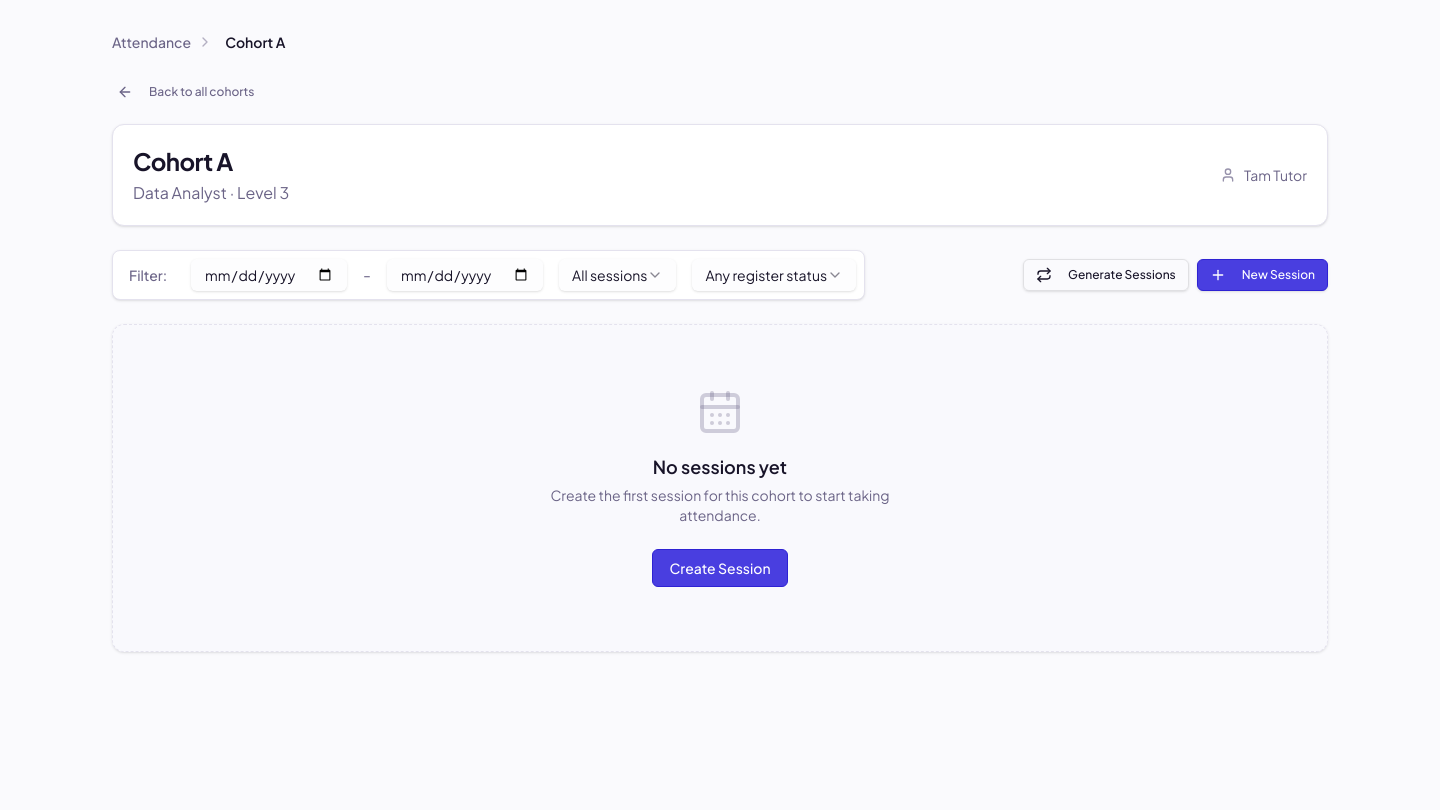
it: CohortSessionsPage › shows a conflict dialog on 409 and lets an admin override with a reason
Click the button "New Session": (1262,275) [1197,259,1328,291]
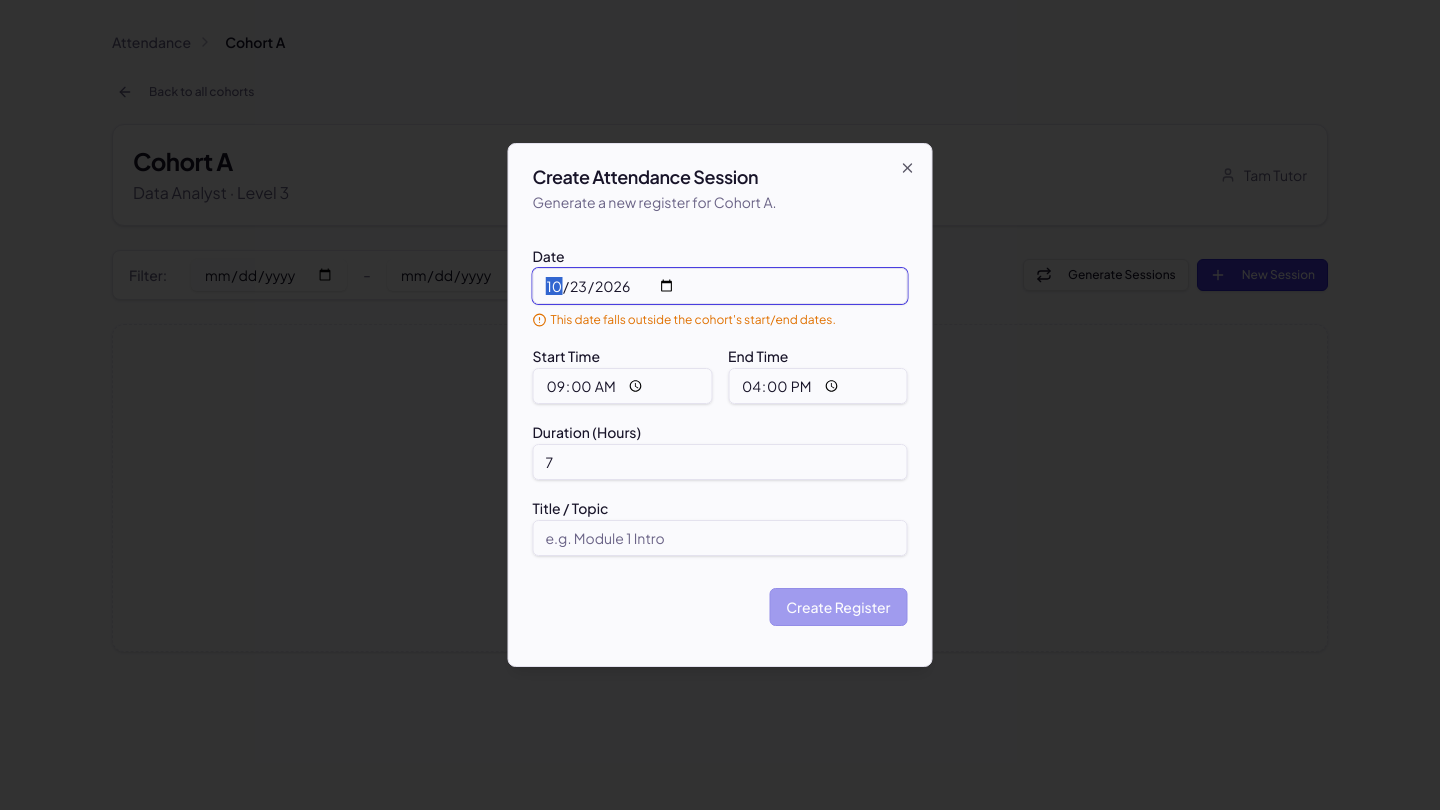
In the field labelled "Title / Topic": (720,538) [532,520,908,556], type "Module 1"
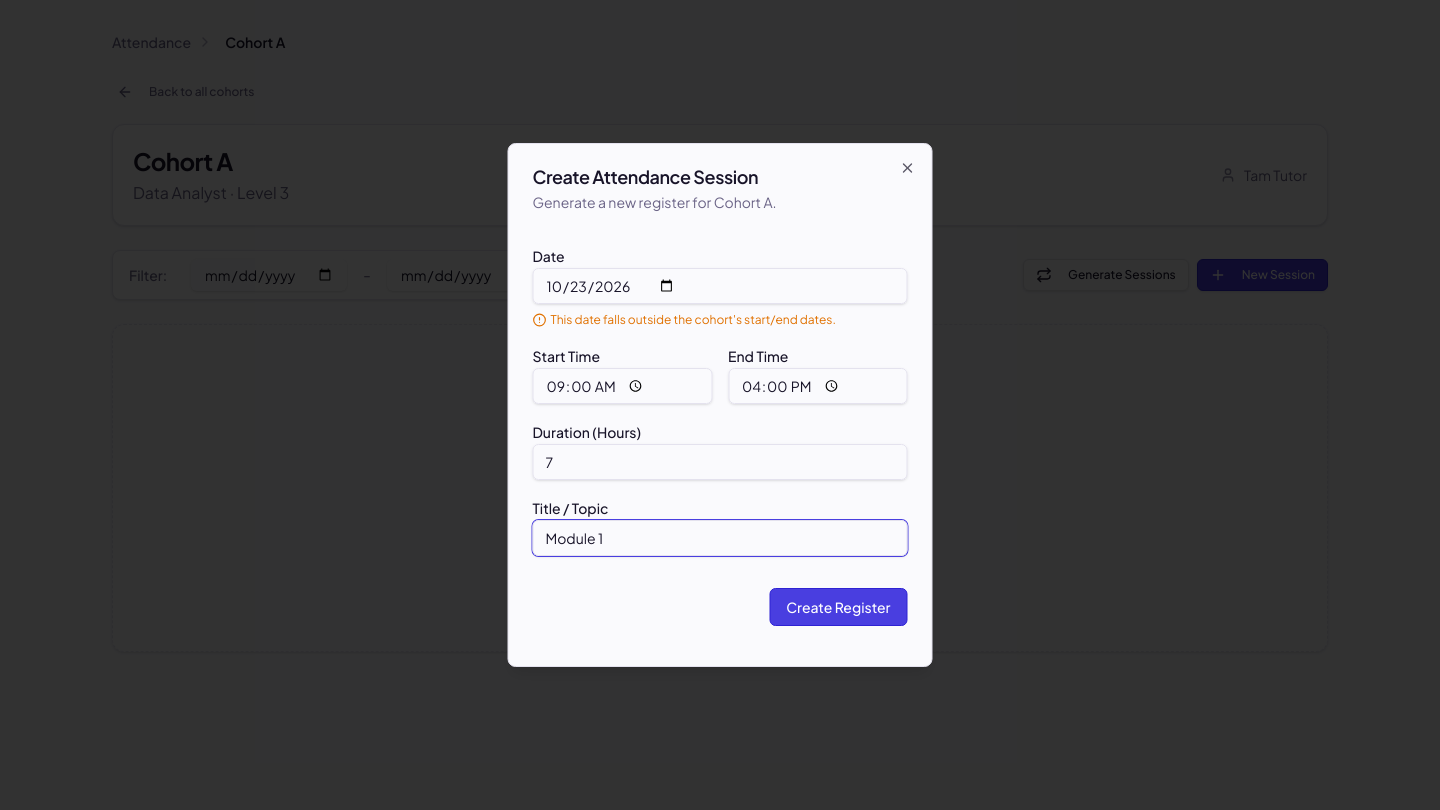
Click the button "Create Register": (838,607) [769,588,908,626]
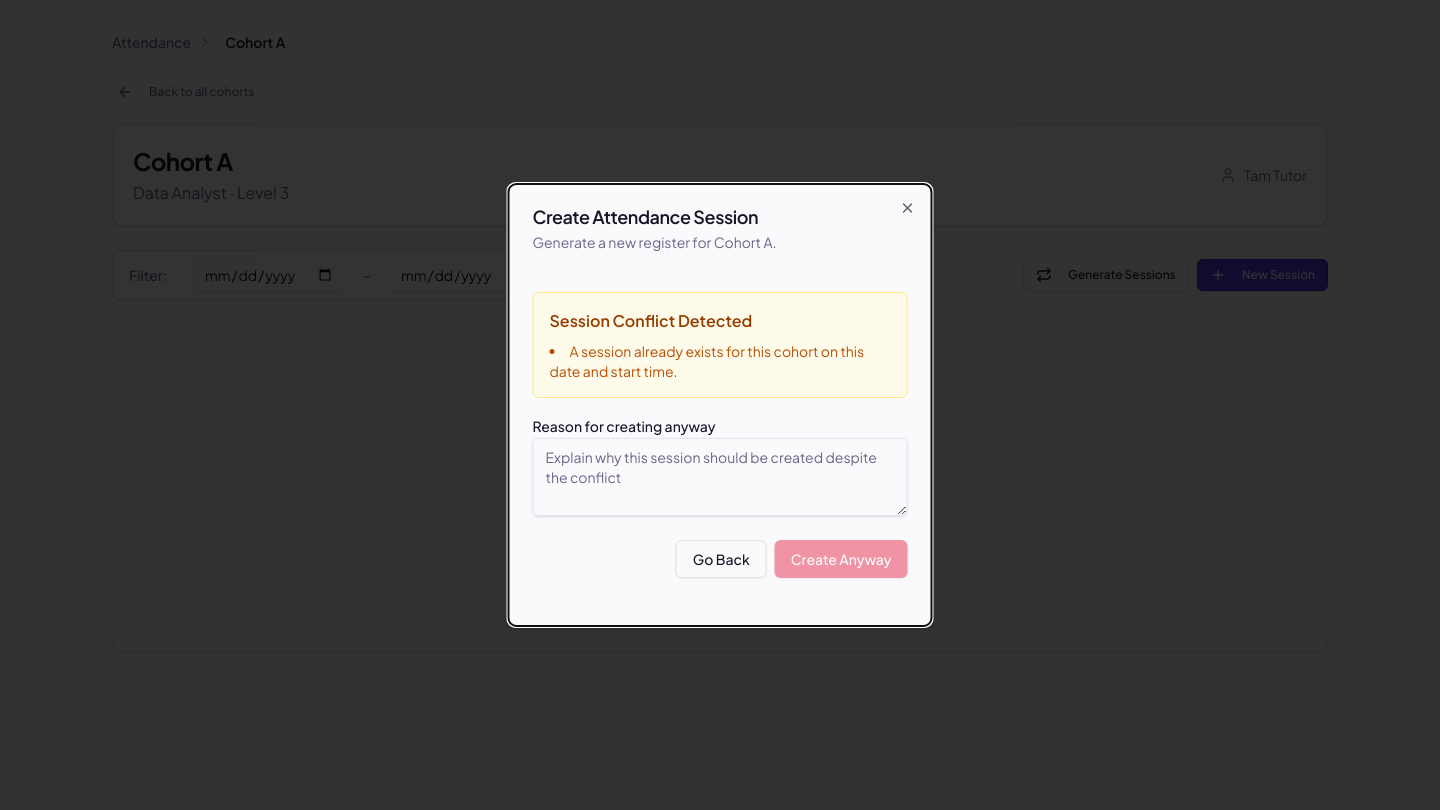
Result: the heading "Session Conflict Detected" is shown at [550,310,752,331]
Result: the list item "A session already exists for this cohort" is shown at [550,342,864,380]
Result: the button "Create Anyway" is disabled at [775,540,908,578]
In the text box with placeholder "Explain why": (720,477) [532,438,908,516], type "Second session approved"
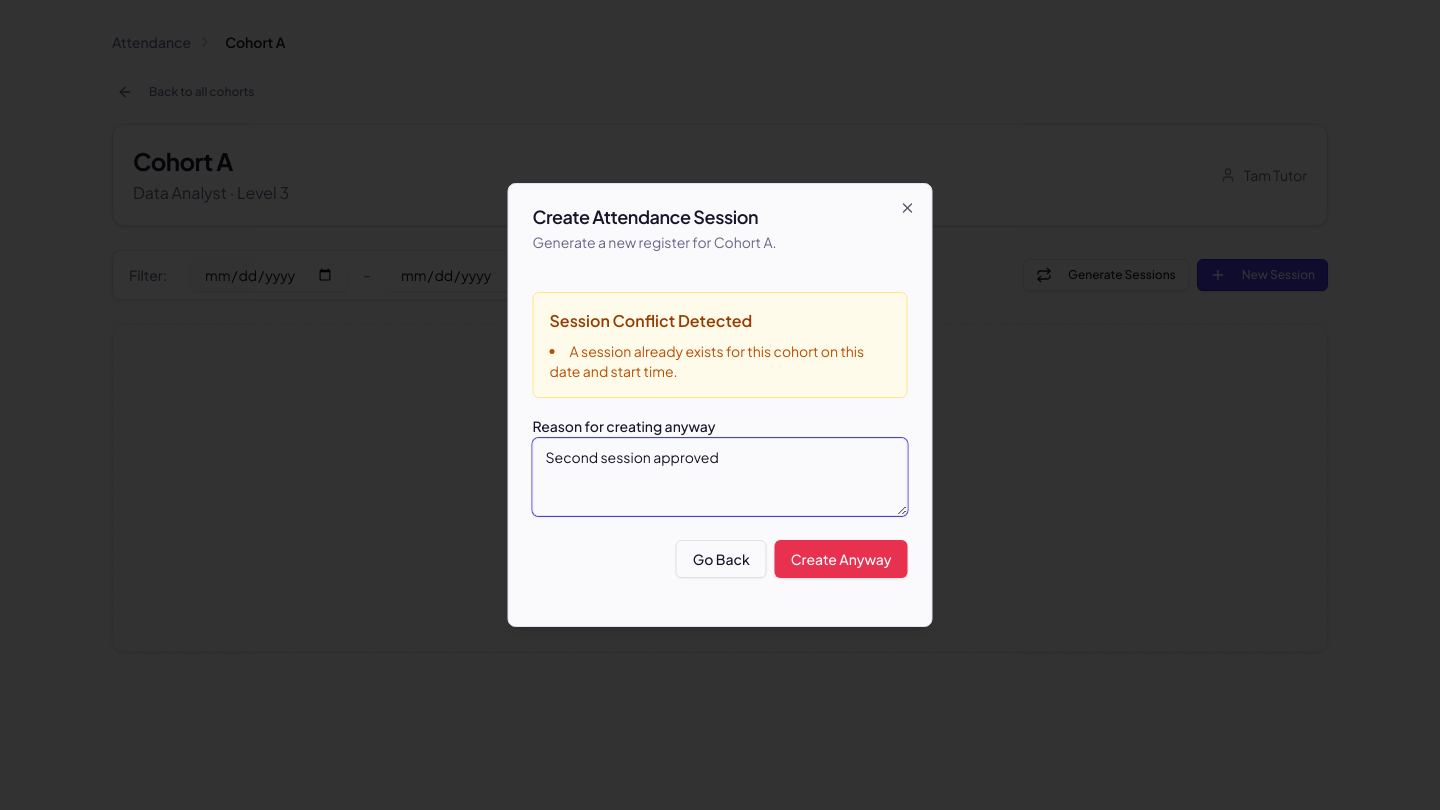
Result: the button "Create Anyway" is enabled at [775,540,908,578]
